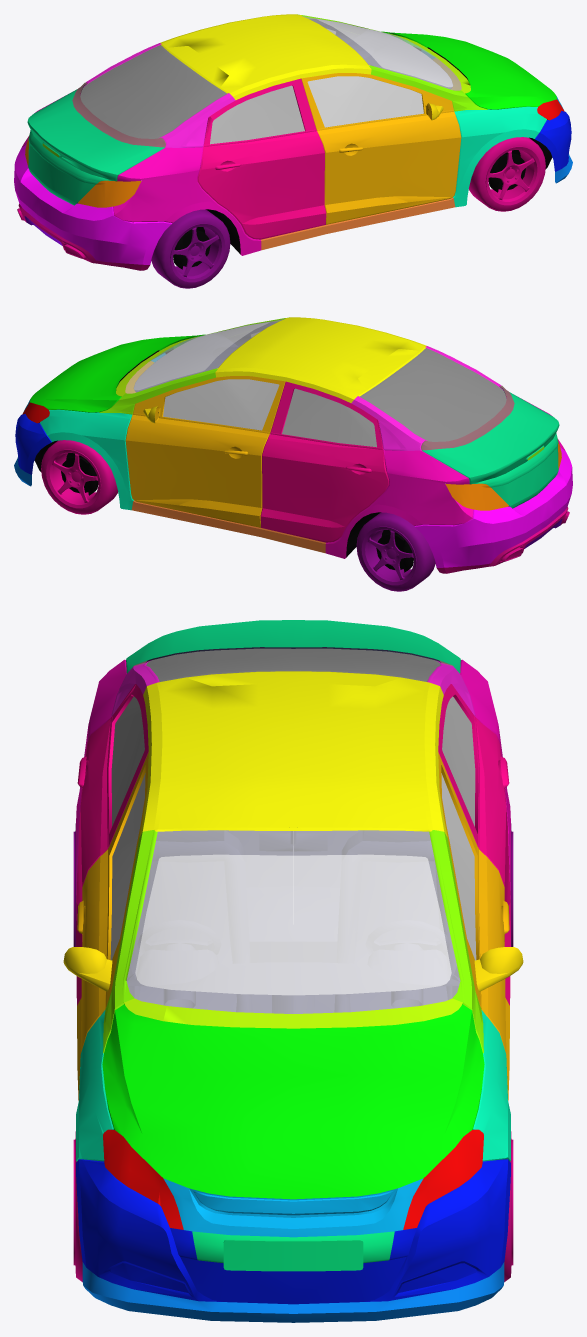
File: color_definition_sedan.fbx
3 renders of one model, top to bottom at view 1: azimuth 30°, elevation 25°; view 2: azimuth 150°, elevation 25°; view 3: azimuth 270°, elevation 25°, orthographic. The views are drawn at different scales.
Parts seen in each view (by area): view 1: body.001, glass.001, plastic_trim, wheels, interior, glass_trim_colour, stoplights.001, headlight_left; view 2: body.001, glass.001, plastic_trim, wheels, interior, glass_trim_colour, stoplights.001, headlight_left; view 3: body.001, glass.001, interior, plastic_trim, glass_trim_colour, headlight_left, wheels.
Boxes of the visible parts, x1,y1,x2,y2 form: body.001: (14,14,572,264); glass.001: (84,19,453,144); plastic_trim: (17,15,563,270); wheels: (151,137,545,288); interior: (81,19,452,181); glass_trim_colour: (80,16,461,138); stoplights.001: (25,136,141,207); headlight_left: (537,99,564,120); body.001: (14,317,572,567); glass.001: (133,322,502,447); plastic_trim: (23,318,569,573); wheels: (41,440,435,591); interior: (134,322,505,484); glass_trim_colour: (125,319,506,441); stoplights.001: (445,439,561,510); headlight_left: (22,402,49,423); body.001: (63,620,523,1322); glass.001: (110,649,476,995); interior: (127,647,459,1013); plastic_trim: (103,660,483,1304); glass_trim_colour: (126,648,460,1013); headlight_left: (103,1129,483,1281); wheels: (73,823,513,1281).
Size of the model in its own units: 436 by 144 by 171.
